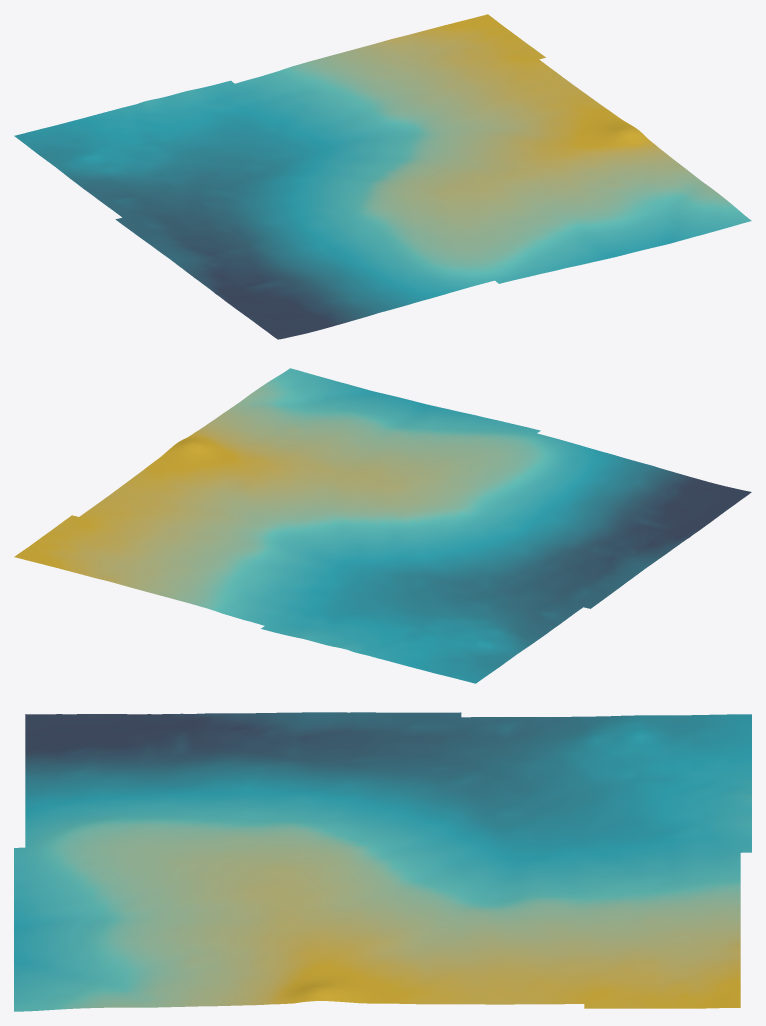
File: terrain.glb
3 renders of one model, top to bottom at view 1: azimuth 30°, elevation 25°; view 2: azimuth 150°, elevation 25°; view 3: azimuth 270°, elevation 25°, orthographic. The views are drawn at different scales.
Parts seen in each view (by area): view 1: terrain-chunk-0000; view 2: terrain-chunk-0000; view 3: terrain-chunk-0000.
Boxes of the visible parts, x1,y1,x2,y2 form: terrain-chunk-0000: (14,14,751,339); terrain-chunk-0000: (14,368,751,683); terrain-chunk-0000: (14,712,751,1011).
Bounding box in the file's own units: 2029 × 72.84 × 2029.
